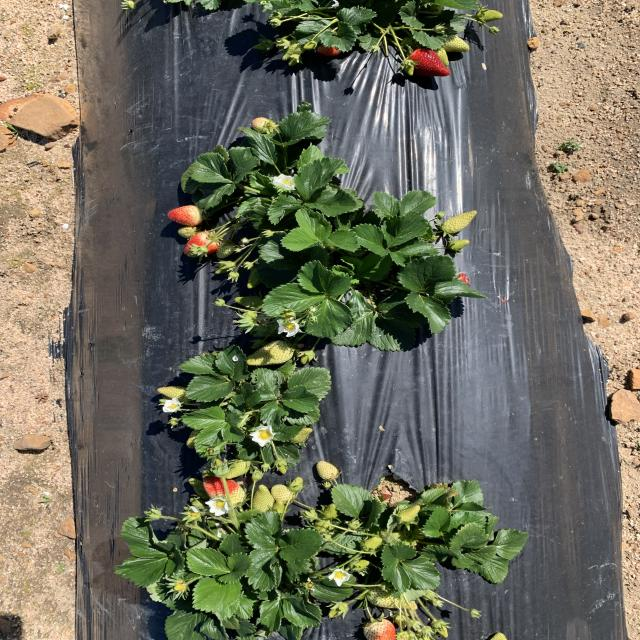unripe: (404, 45, 453, 78), (180, 232, 220, 258), (167, 205, 201, 225)
